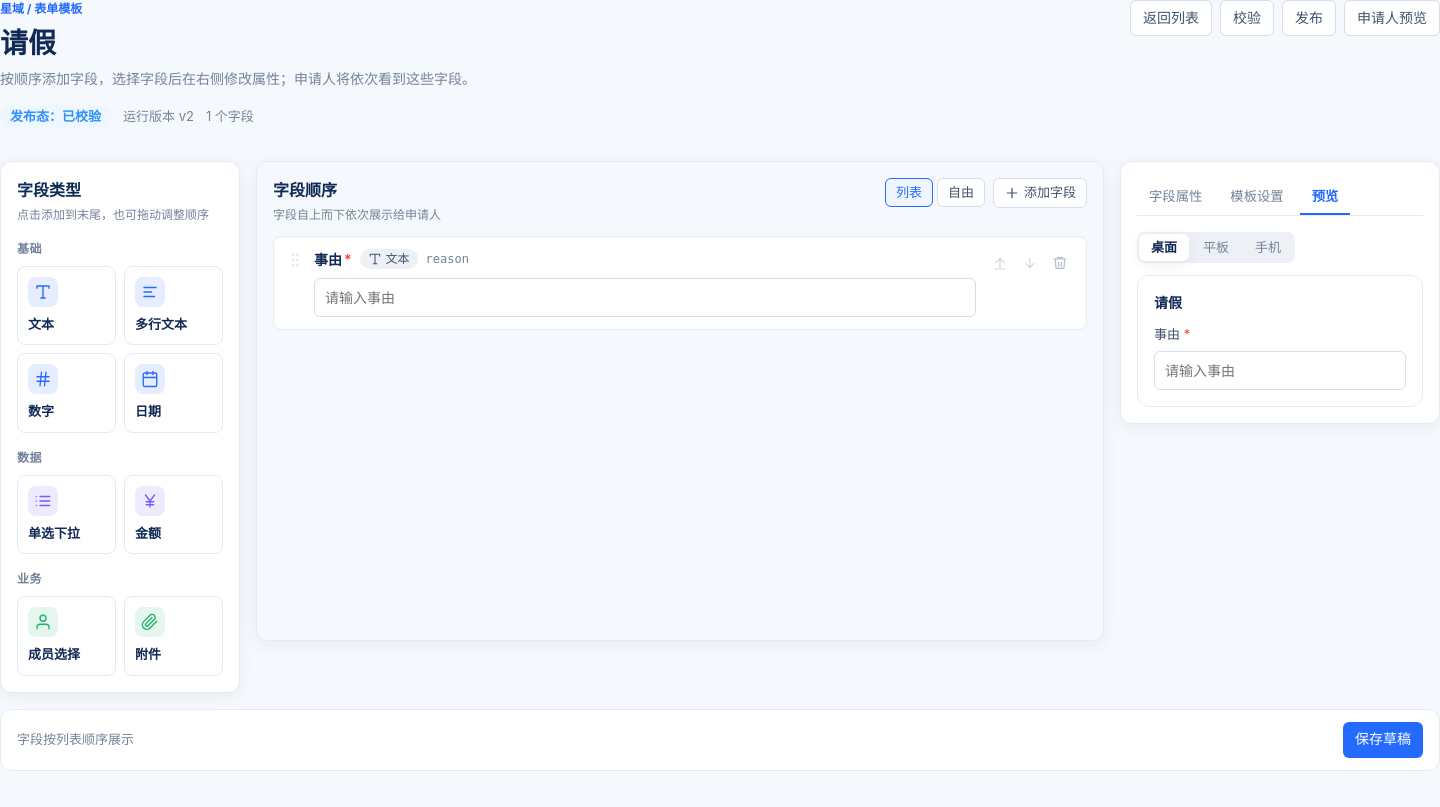
Test case: form template designer › confirms publish, shows the version, and keeps the server failure text
This screenshot has width=1440, height=807.
Click the button with test id "template-publish". click: coordinates (1309, 18)
box: [1282,0,1336,36]
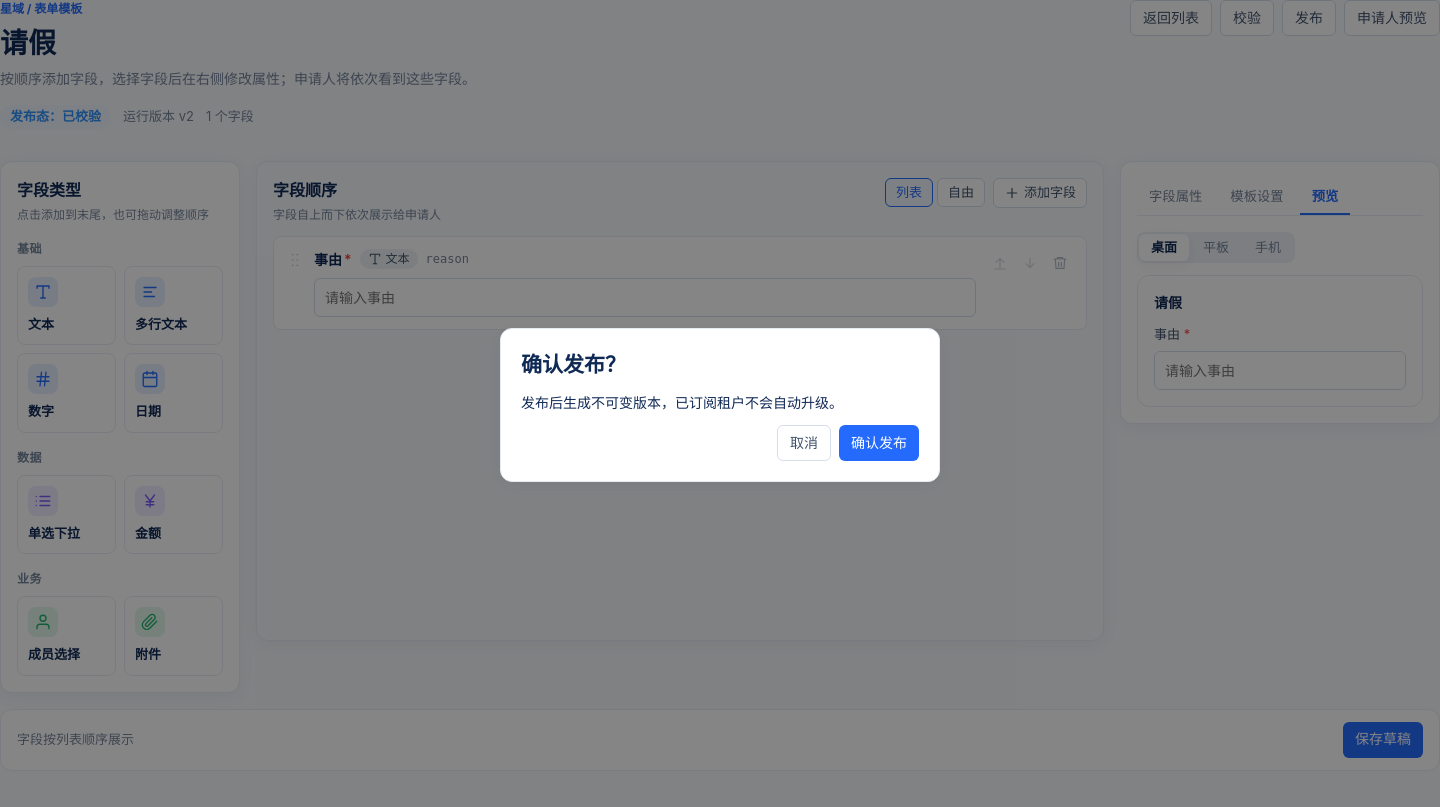
Now the element with test id "template-publish-confirm" shows "确认发布", box [839,425,919,461]
Click the button with test id "template-publish-cancel". click: coordinates (804, 443)
box: [777,425,831,461]
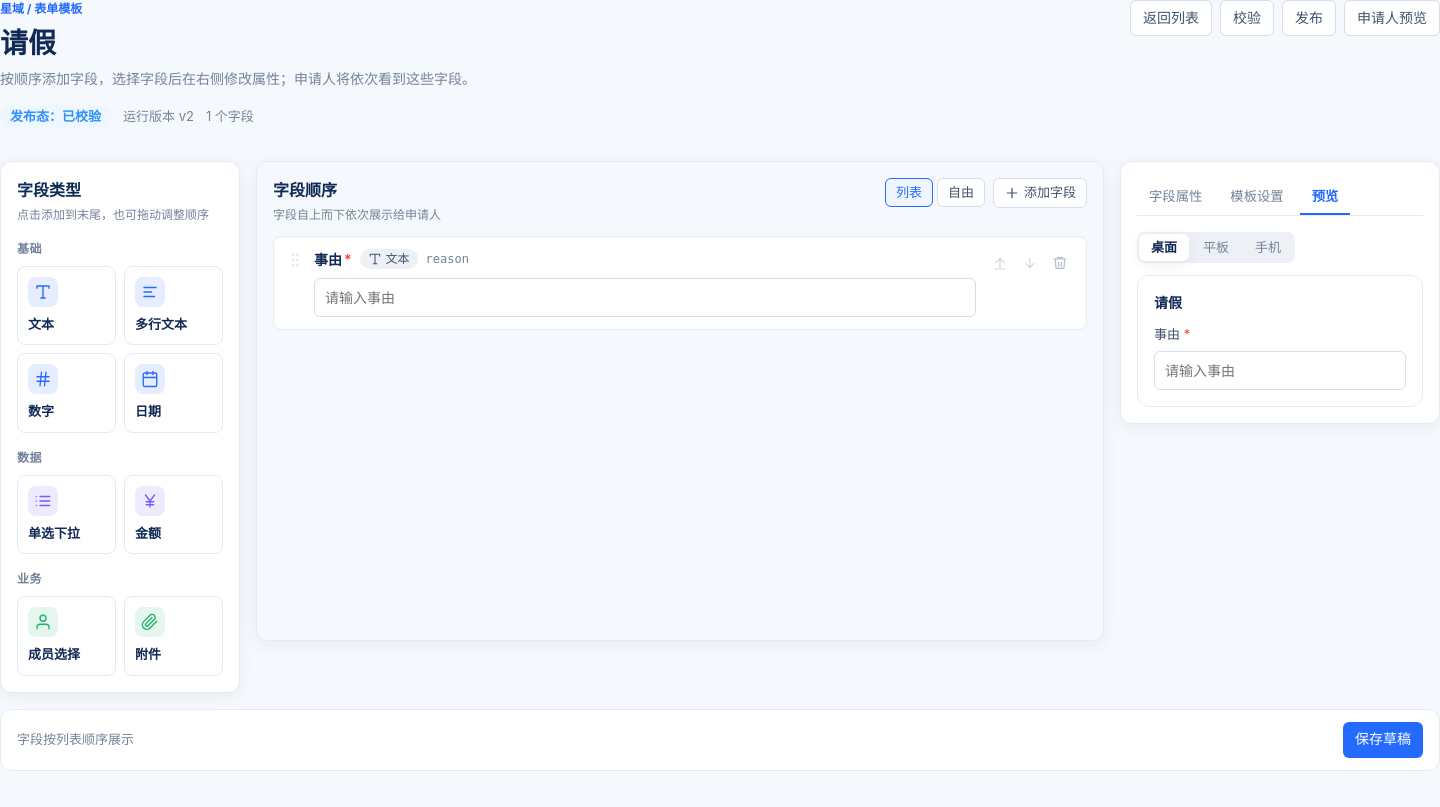
Click the button with test id "template-publish". click: coordinates (1309, 18)
box: [1282,0,1336,36]
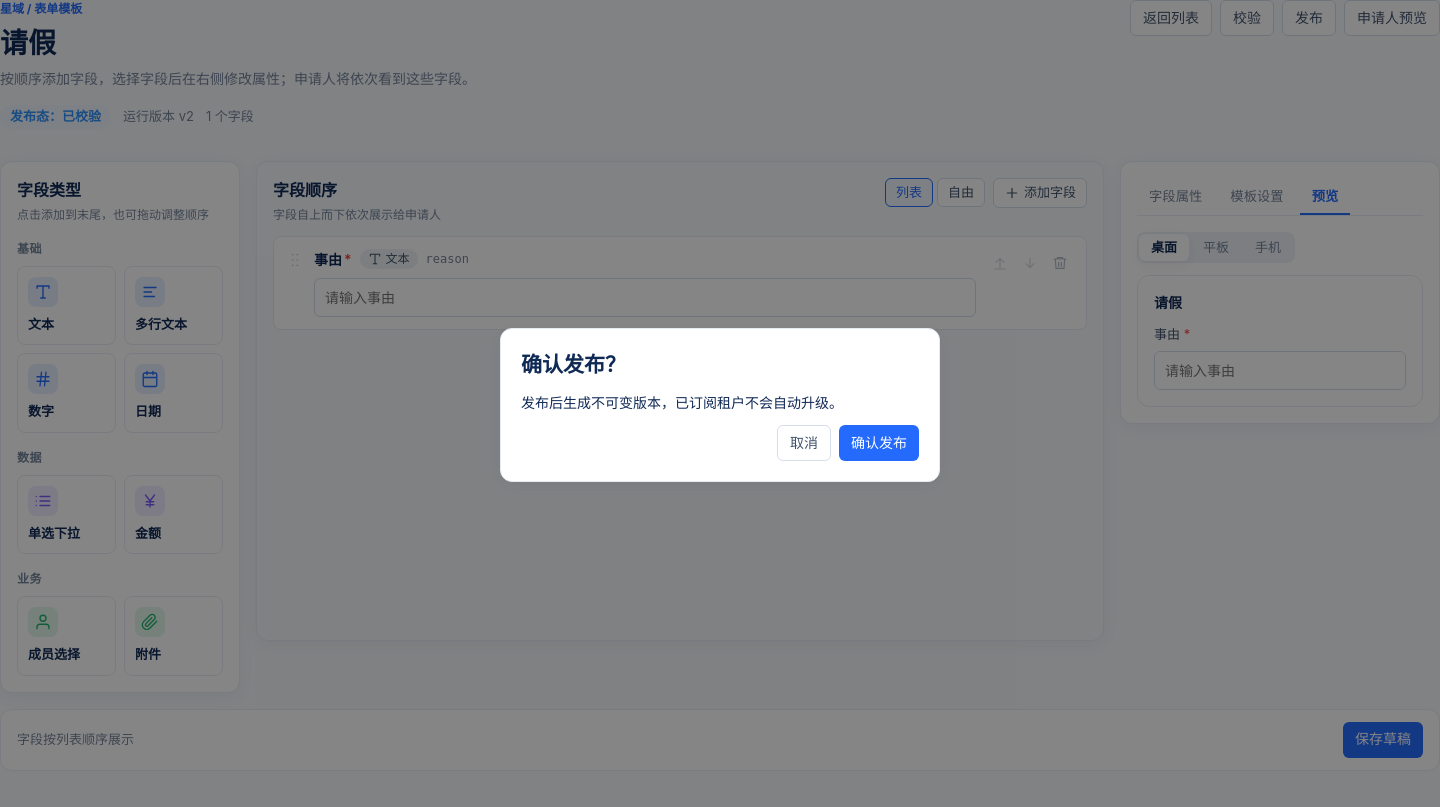
Click the button with test id "template-publish-submit". click: coordinates (879, 443)
box: [839,425,919,461]
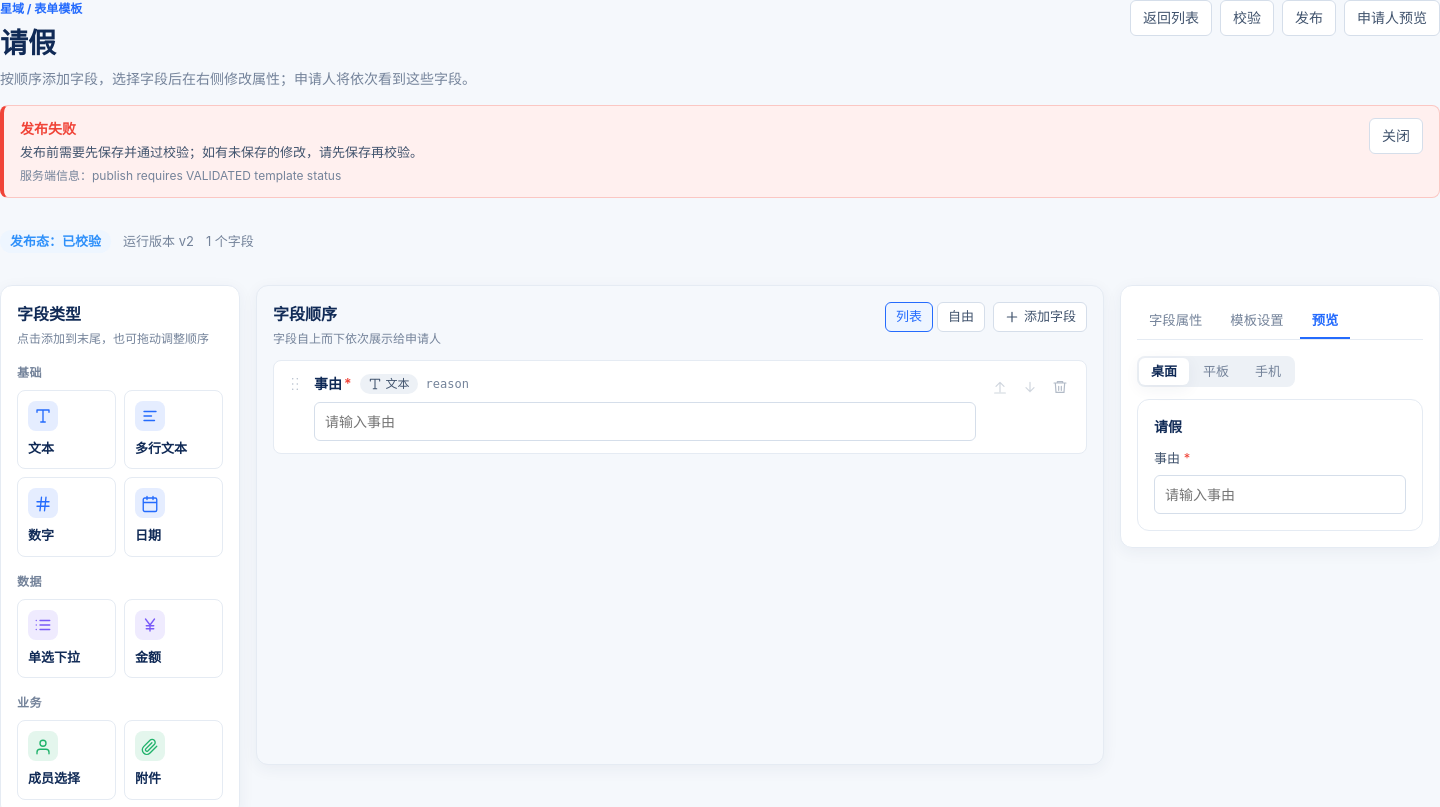
Now the message with test id "template-action-failure" shows "发布失败", box [20,120,76,137]
Now the text with test id "nx-request-alert-hint" shows "先保存并通过校验", box [20,144,423,160]
Now the text with test id "nx-request-alert-server" shows "publish requires VALIDATED template status", box [20,168,341,182]
Click the button with test id "template-publish". click: coordinates (1309, 18)
box: [1282,0,1336,36]
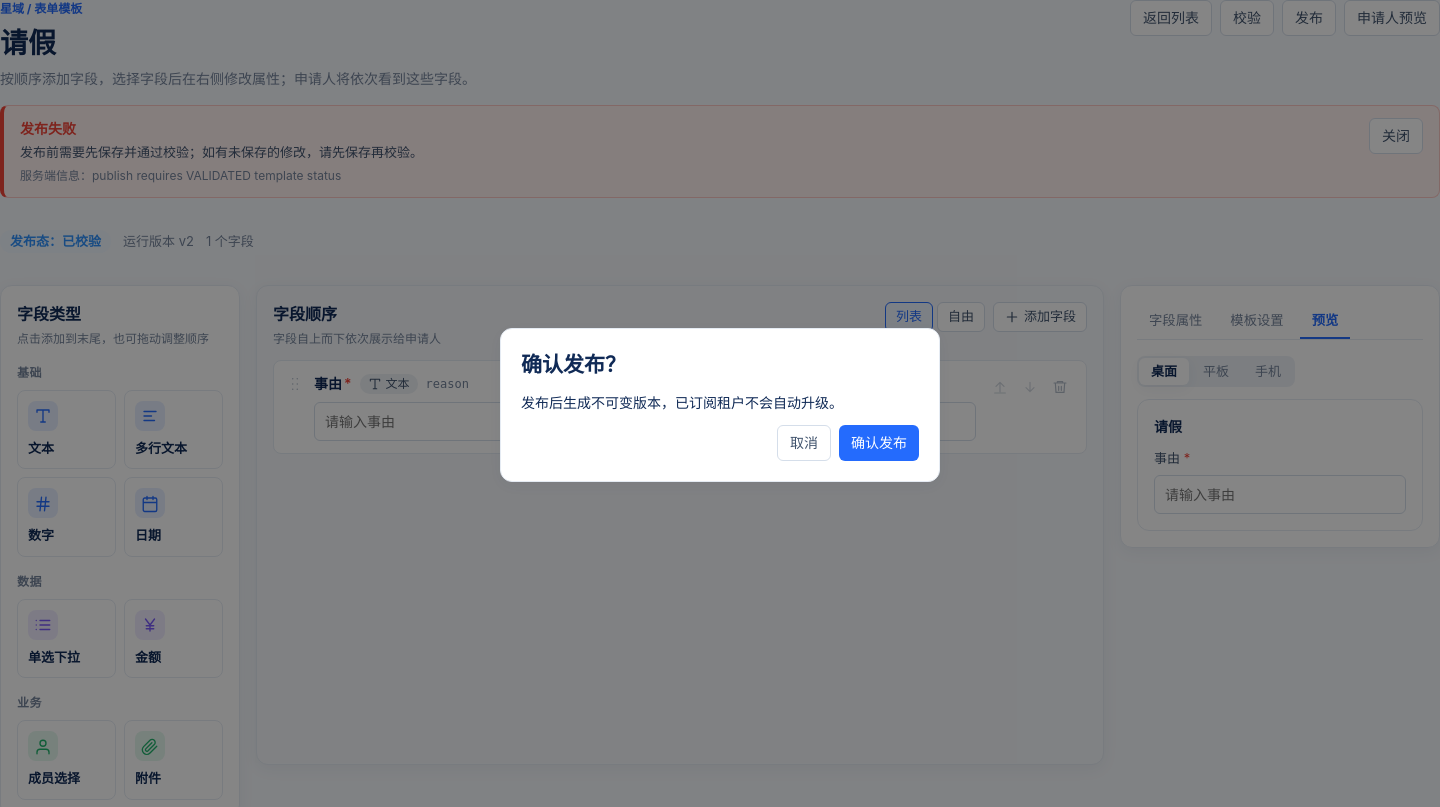
Click the button with test id "template-publish-submit". click: coordinates (879, 443)
box: [839,425,919,461]
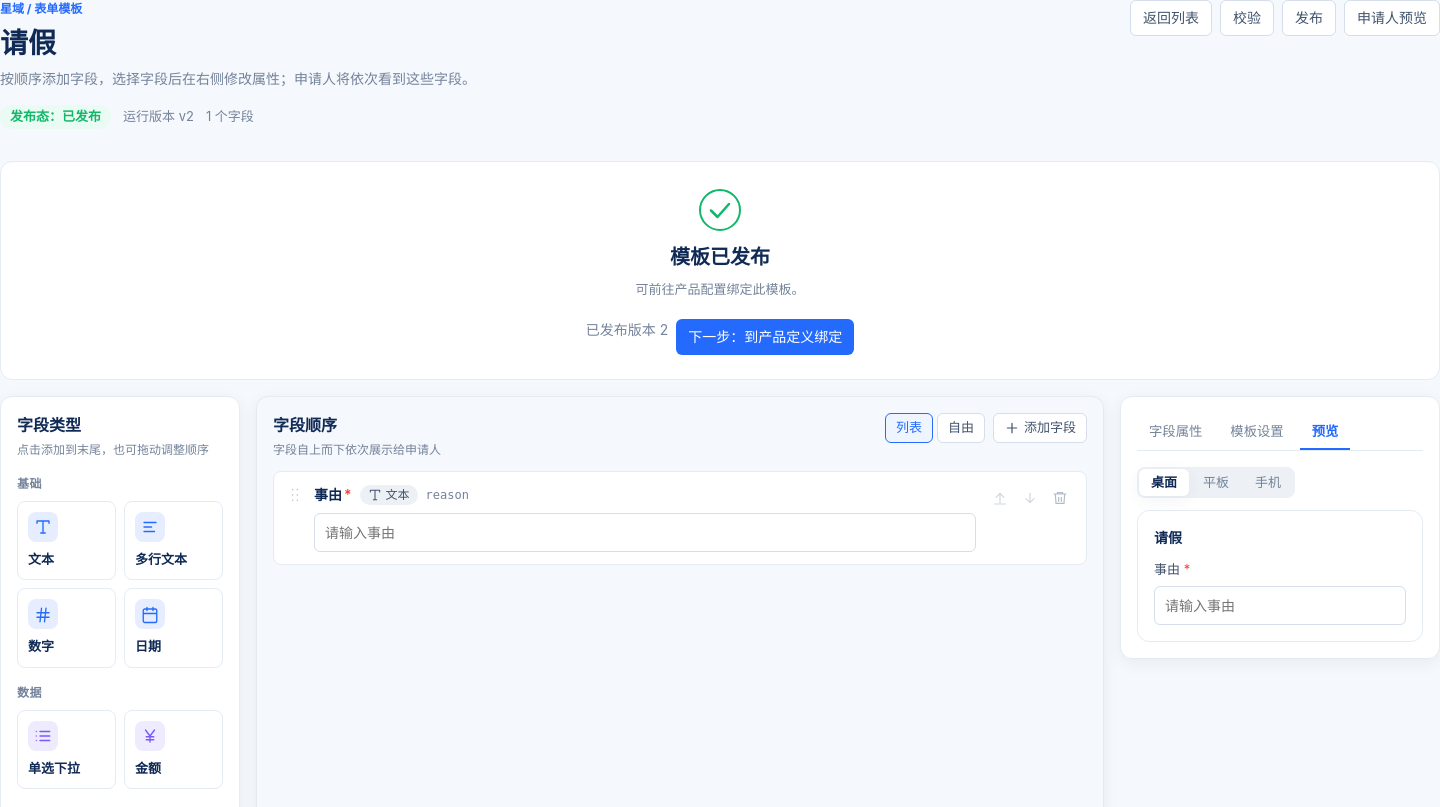
Now the text with test id "template-publish-version" reads "已发布版本 2", box [586,321,668,338]
Now the text with test id "nx-result-title" reads "模板已发布", box [670,244,770,268]
Now the element with test id "nx-result-next" shows "下一步：到产品定义绑定", box [676,319,854,355]
